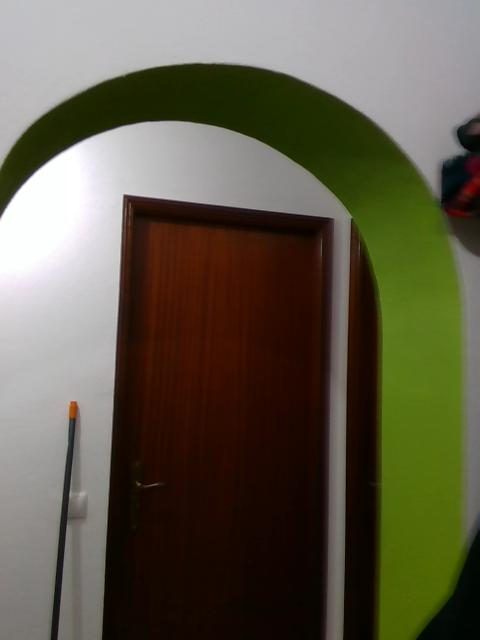door: (123, 219, 317, 639)
